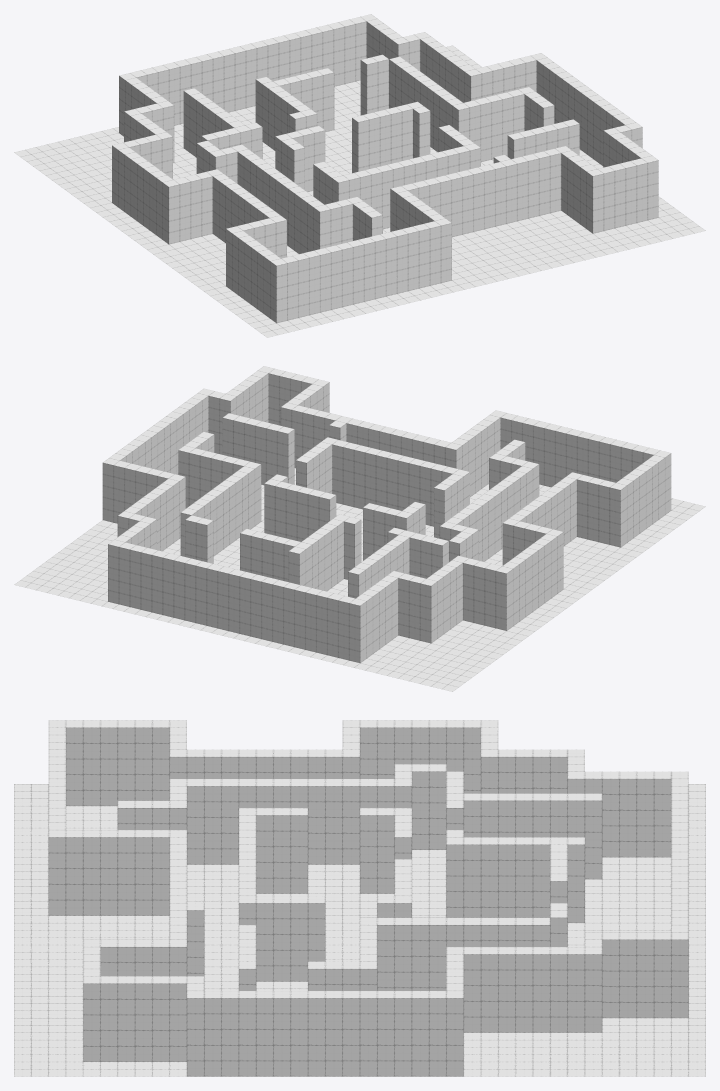
Rendered from MAZE001.fbx.
3 views of the same model, one above another, from view 1: azimuth 30°, elevation 25°; view 2: azimuth 150°, elevation 25°; view 3: azimuth 270°, elevation 25° (orthographic). The views are drawn at different scales.
Parts seen in each view (by area): view 1: Floor, Cube__21_, Cube__1_, Cube__4_, Cube__39_, Cube__16_, Cube, Cube__24_, Cube__11_, Cube__43_, Cube__33_, Cube__10_ (+32 smaller); view 2: Floor, Cube__21_, Cube__39_, Cube__1_, Cube__4_, Cube__11_, Cube, Cube__33_, Cube__16_, Cube__24_, Cube__37_, Cube__30_ (+33 smaller); view 3: Floor, Cube__16_, Cube__24_, Cube__2_, Cube__18_, Cube, Cube__7_, Cube__30_, Cube__33_, Cube__28_, Cube__11_, Cube__15_ (+31 smaller).
Boxes of the visible parts, <box> form: Floor: <box>14,45,705,337</box>; Cube__21_: <box>119,14,377,136</box>; Cube__1_: <box>281,221,440,320</box>; Cube__4_: <box>402,146,571,236</box>; Cube__39_: <box>332,143,480,229</box>; Cube__16_: <box>536,57,635,165</box>; Cube: <box>226,226,287,323</box>; Cube__24_: <box>237,149,323,253</box>; Cube__11_: <box>112,142,173,239</box>; Cube__43_: <box>352,104,412,173</box>; Cube__33_: <box>389,56,469,151</box>; Cube__10_: <box>162,171,212,244</box>; Floor: <box>14,468,705,691</box>; Cube__21_: <box>108,539,366,662</box>; Cube__39_: <box>321,437,469,526</box>; Cube__1_: <box>500,413,659,487</box>; Cube__4_: <box>280,402,450,468</box>; Cube__11_: <box>495,534,557,630</box>; Cube: <box>609,450,671,547</box>; Cube__33_: <box>180,461,261,556</box>; Cube__16_: <box>109,393,208,474</box>; Cube__24_: <box>446,466,532,561</box>; Cube__37_: <box>233,416,294,484</box>; Cube__30_: <box>288,519,343,591</box>; Floor: <box>14,784,705,1076</box>; Cube__16_: <box>204,991,446,1076</box>; Cube__24_: <box>187,779,394,864</box>; Cube__2_: <box>48,830,186,915</box>; Cube__18_: <box>463,947,584,1032</box>; Cube: <box>48,720,186,805</box>; Cube__7_: <box>83,976,186,1061</box>; Cube__30_: <box>463,837,584,922</box>; Cube__33_: <box>360,917,550,990</box>; Cube__28_: <box>463,793,602,879</box>; Cube__11_: <box>360,720,498,793</box>; Cube__15_: <box>585,771,671,857</box>.
Bounding box in the file's own units: 4000 × 500 × 4000.
1 material, 1 textured.
